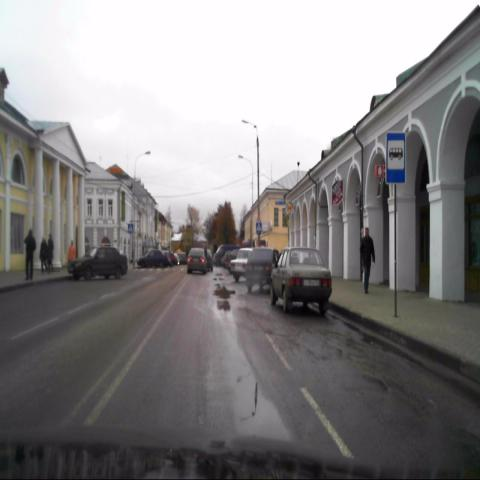5_16: (387, 131, 406, 183)
